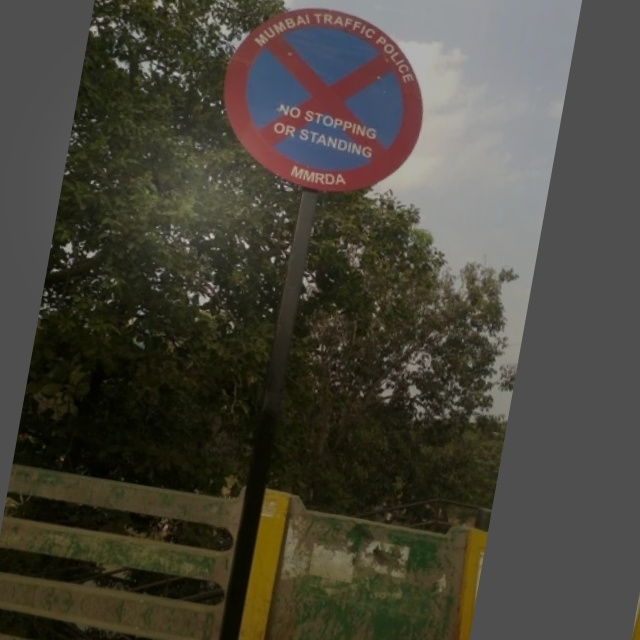No_Stopping_or_Standing: (208, 1, 447, 218)
